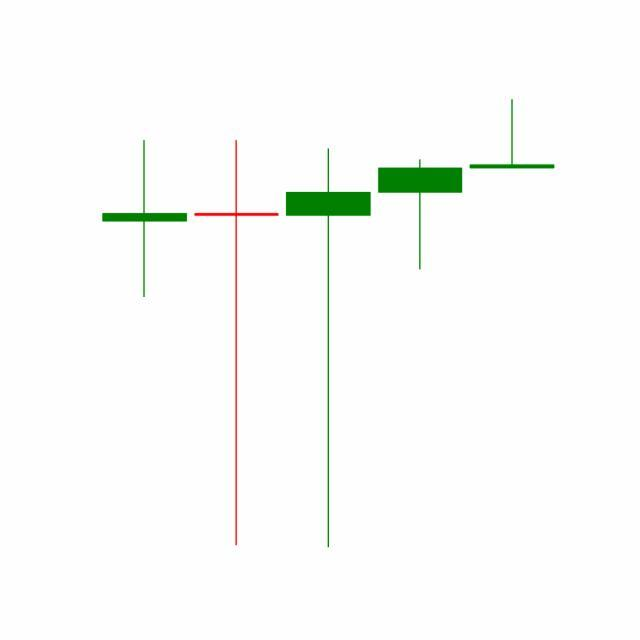Dragonfly Doji: (374, 159, 468, 273)
